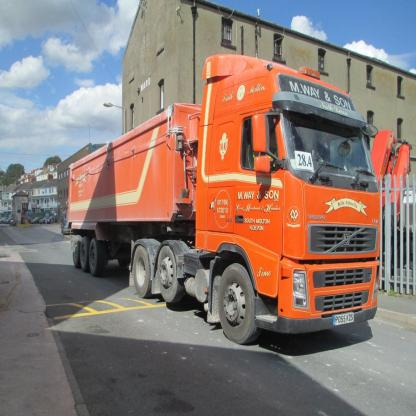Car: (30, 216, 42, 226), (42, 216, 54, 224)
